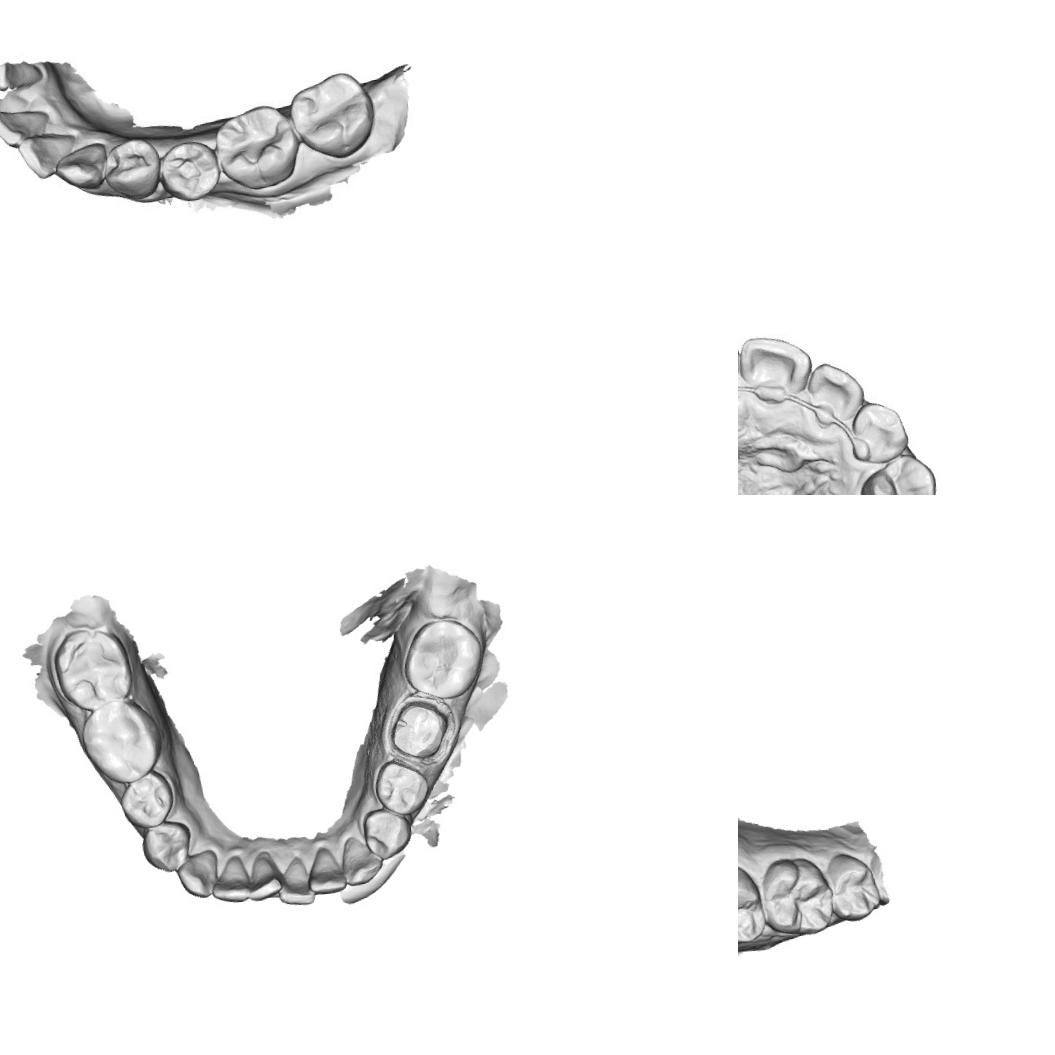canine: (848, 398, 912, 464), (52, 141, 109, 194), (172, 846, 225, 902), (337, 832, 387, 889)
crown: (381, 693, 457, 768)
incisor: (738, 332, 814, 403), (807, 360, 867, 422), (17, 130, 81, 182), (238, 847, 287, 902), (207, 851, 256, 906), (304, 841, 348, 897), (274, 854, 318, 910), (0, 104, 52, 151)
molar: (284, 69, 380, 164), (211, 101, 304, 194), (396, 612, 490, 704), (47, 622, 138, 716), (76, 696, 168, 788), (756, 854, 837, 940), (738, 859, 767, 948)
premolar: (824, 850, 883, 924), (156, 139, 223, 204), (100, 136, 164, 202), (116, 767, 180, 832), (371, 756, 432, 820), (859, 451, 939, 495), (359, 802, 416, 860), (137, 818, 196, 874)
